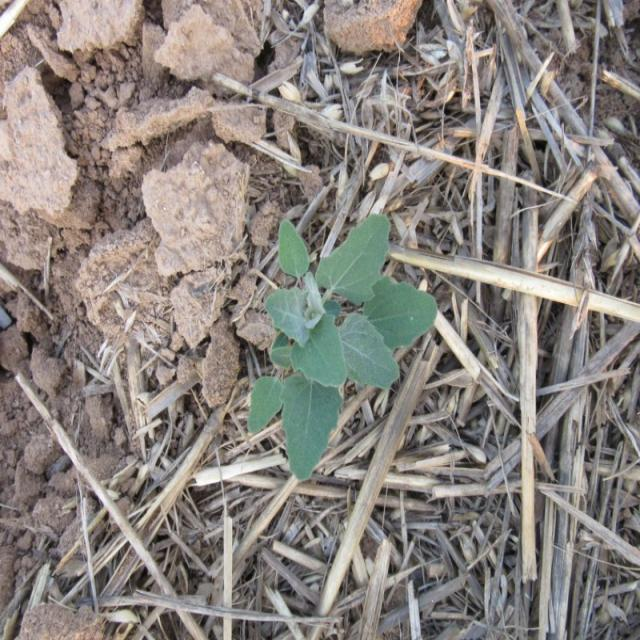ca: (247, 210, 436, 477)
